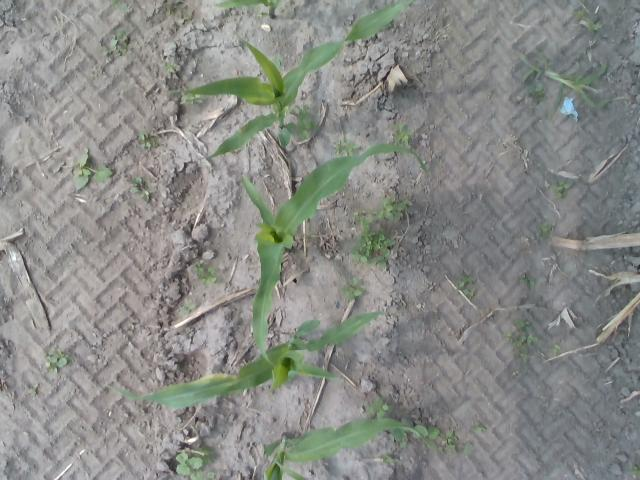Maize: (243, 144, 428, 365), (179, 1, 411, 159), (106, 312, 386, 407), (265, 418, 430, 478), (210, 0, 280, 17)
Weeds: (518, 51, 616, 120), (71, 150, 114, 191), (351, 228, 395, 263), (44, 346, 74, 376), (175, 452, 202, 475), (130, 178, 150, 202), (366, 398, 390, 417), (377, 196, 394, 220), (342, 280, 362, 300), (294, 104, 312, 125), (110, 34, 128, 54), (198, 268, 217, 286), (354, 211, 371, 230), (418, 424, 441, 438), (392, 429, 408, 447), (394, 124, 410, 142), (142, 132, 156, 150), (338, 142, 358, 154), (298, 122, 312, 139), (195, 448, 208, 466), (178, 300, 196, 313), (582, 19, 600, 32), (514, 332, 526, 349), (532, 88, 546, 102), (558, 180, 571, 194), (394, 200, 412, 210), (182, 96, 203, 104), (446, 431, 458, 444), (515, 319, 530, 329), (168, 64, 180, 76), (514, 352, 528, 362), (54, 162, 65, 174), (462, 274, 475, 284), (576, 9, 586, 22), (190, 471, 204, 480), (444, 444, 456, 454), (464, 442, 474, 454), (28, 384, 38, 396), (193, 260, 203, 272), (520, 278, 534, 286), (464, 288, 475, 298), (455, 282, 464, 294), (382, 454, 394, 463), (473, 424, 486, 432), (394, 211, 404, 221), (528, 335, 538, 344), (503, 332, 512, 342), (541, 222, 548, 232), (110, 0, 120, 7), (552, 344, 560, 352), (207, 471, 216, 478), (91, 73, 98, 78)
